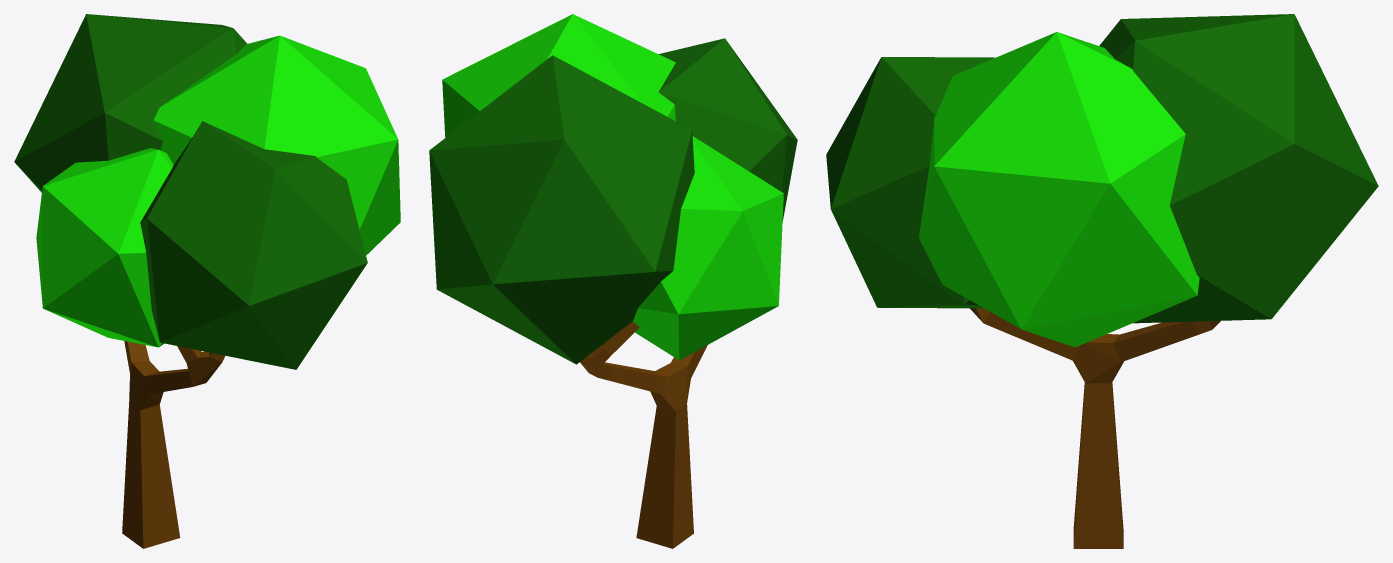
Rendered from new tree4.fbx.
3 views of the same model, side by side, from view 1: azimuth 30°, elevation 25°; view 2: azimuth 150°, elevation 25°; view 3: azimuth 270°, elevation 25° (orthographic). The views are drawn at different scales.
Visible parts, largest first — view 1: Cube; view 2: Cube; view 3: Cube.
Part boxes in pixels (x1,y1,x2,y2): Cube: [14, 14, 400, 548]; Cube: [429, 14, 797, 548]; Cube: [826, 14, 1378, 548].
Size of the model in its own units: 683 by 959 by 839.
